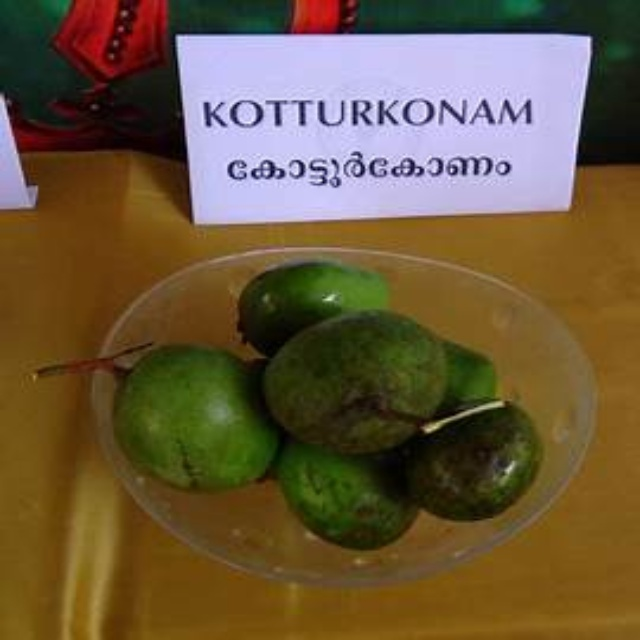mango: (256, 312, 445, 447), (115, 342, 267, 489), (286, 438, 425, 547), (239, 254, 393, 350), (412, 399, 534, 517)
